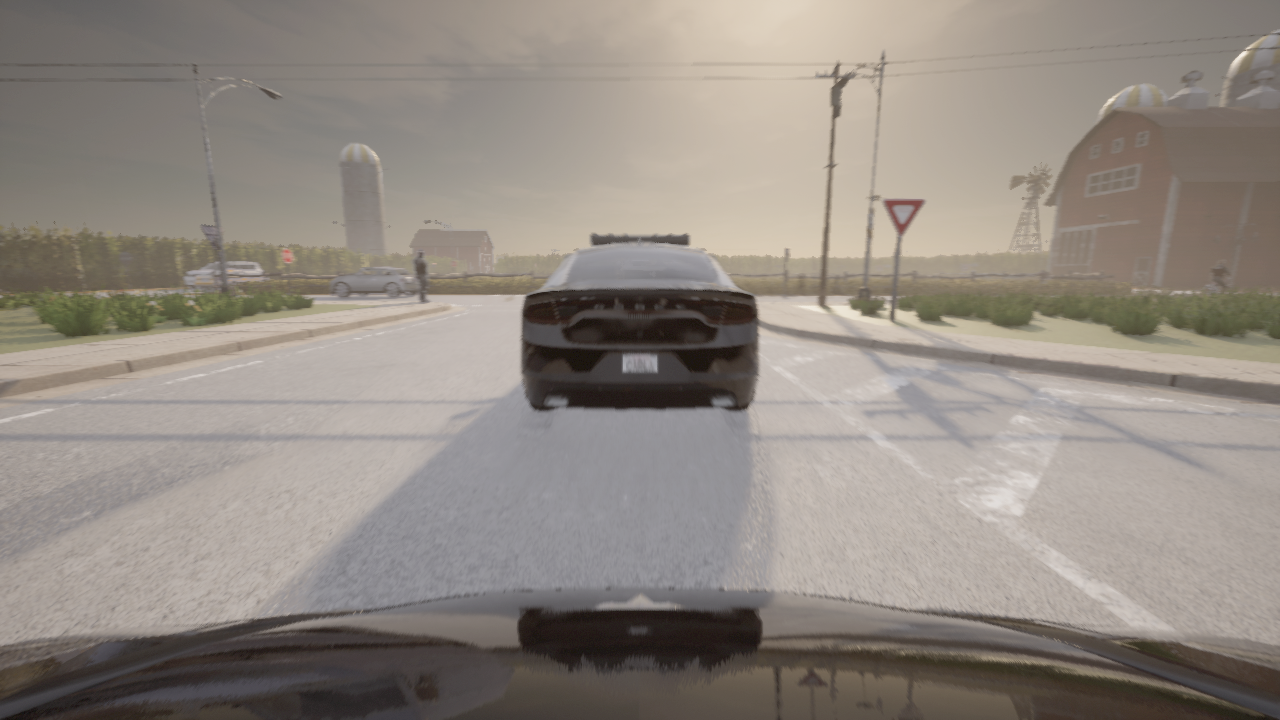cyclist: (0, 588, 1279, 719), (521, 234, 758, 410), (331, 268, 418, 297), (185, 262, 262, 289), (194, 268, 263, 290), (1204, 278, 1233, 294)
pedestrian: (413, 250, 429, 302)
